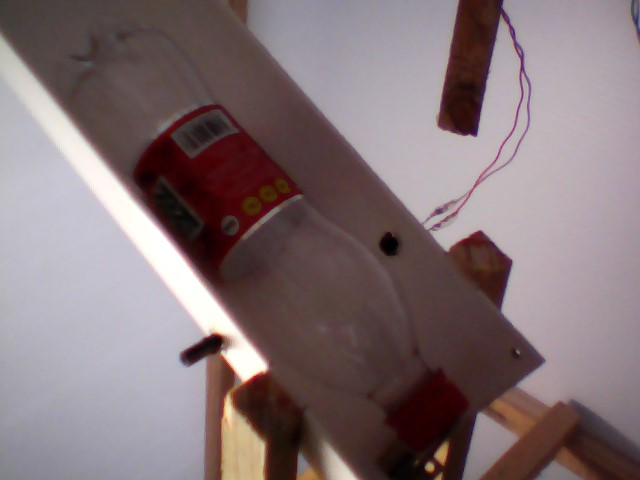plastico: (48, 11, 478, 453)
